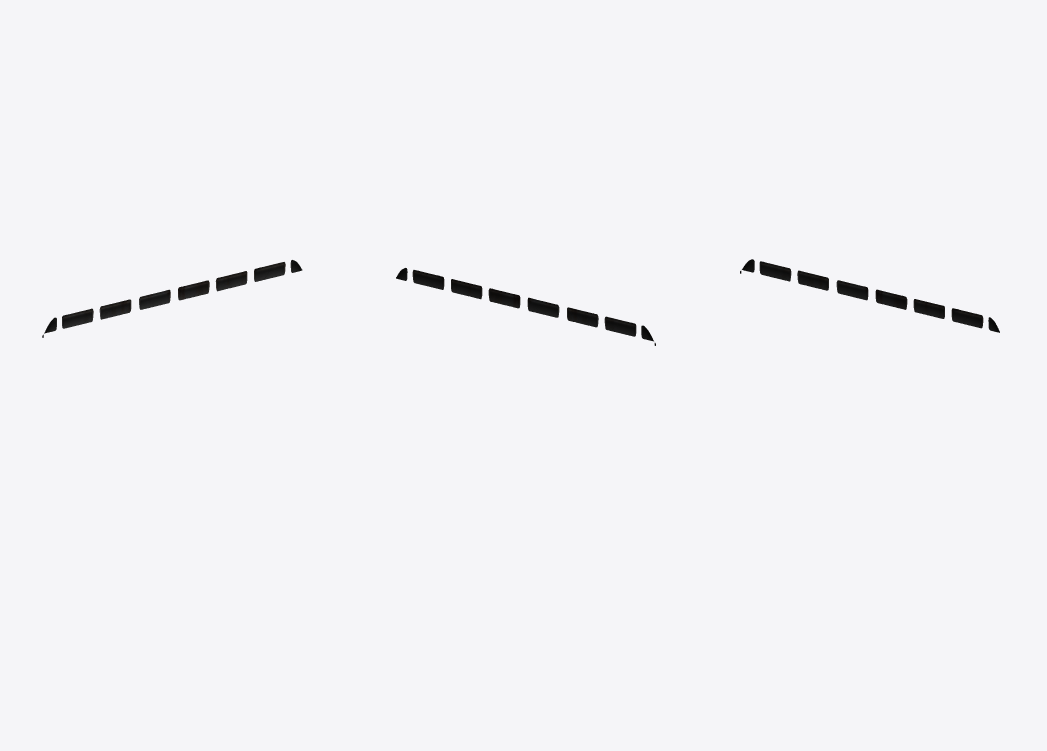
File: living_area_flat02_short.dae
3 renders of one model, left to right at view 1: azimuth 30°, elevation 25°; view 2: azimuth 150°, elevation 25°; view 3: azimuth 330°, elevation 25°, orthographic.
Parts seen in each view (by area): view 1: pPlane4; view 2: pPlane4; view 3: pPlane4.
Part boxes in pixels (box(x1,y1,x2,y2)): pPlane4: box(42, 260, 302, 337); pPlane4: box(396, 268, 655, 345); pPlane4: box(740, 259, 999, 332).
Size of the model in its own units: 2 by 4 by 0.125.
